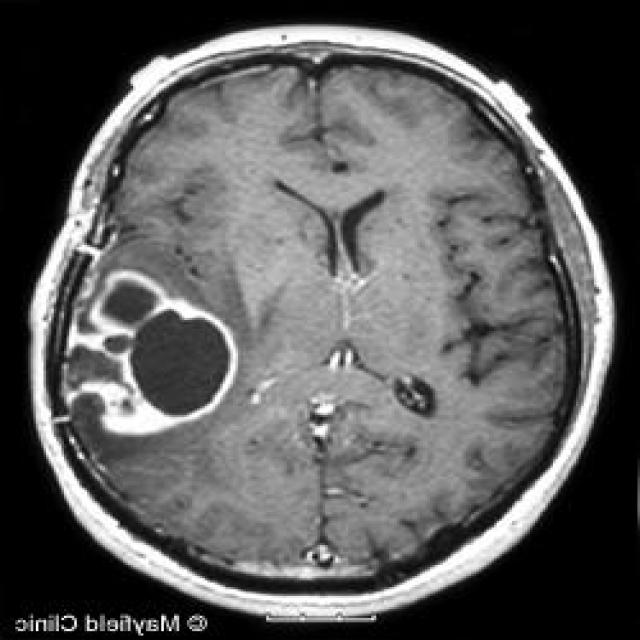Tumor-Cell: (51, 254, 230, 462)
